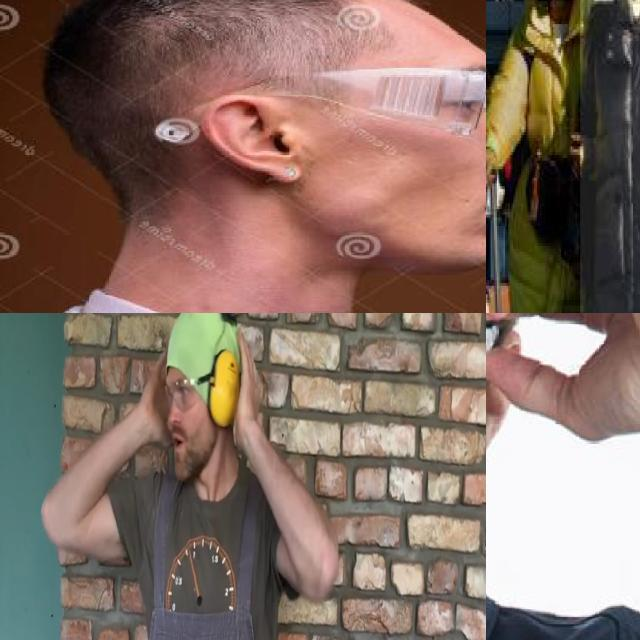Ear-protection: (166, 313, 248, 493)
No_Ear-Protection: (194, 89, 305, 188)
face_mask: (155, 69, 486, 153), (617, 0, 640, 24)
face_nomask: (432, 67, 486, 261)
hand_noglove: (486, 313, 640, 439)
head_nohelmet: (60, 0, 486, 63)
person: (0, 0, 486, 313), (42, 313, 344, 640), (486, 0, 594, 313), (580, 0, 640, 313)
